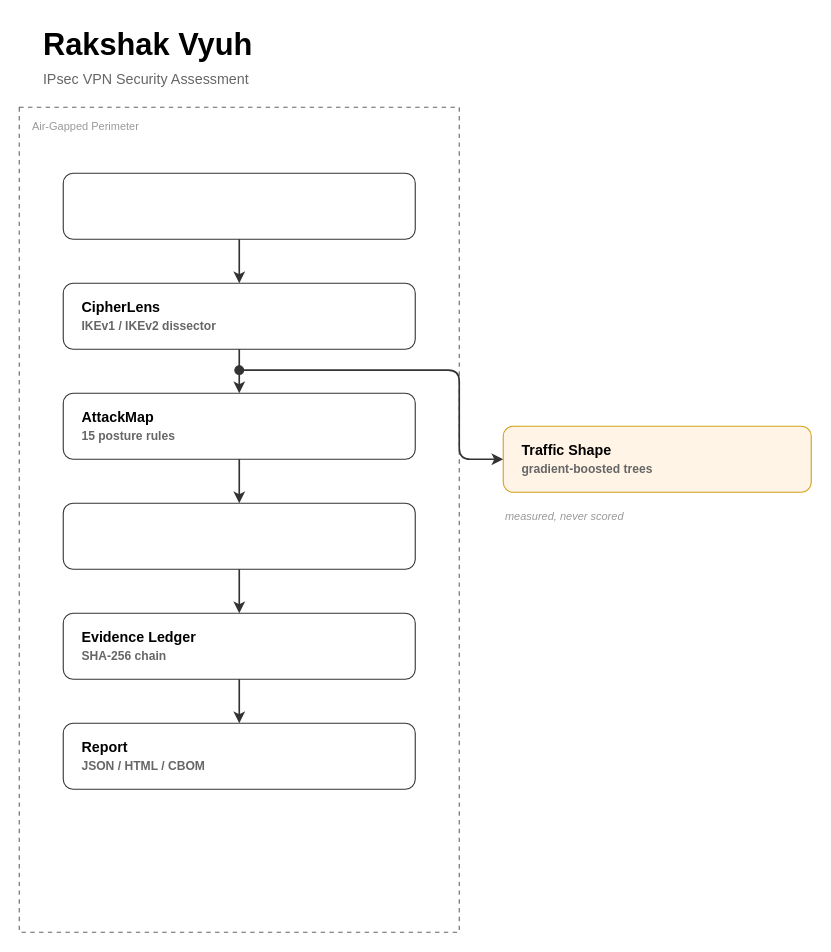
Some shapes in this 831 by 952 pixel diagram are drawn without their labels. Each missing label, with the centre of its shape:
PCAP File offline capture input: (x=238, y=205)
Posture Score grade A to F: (x=238, y=535)
